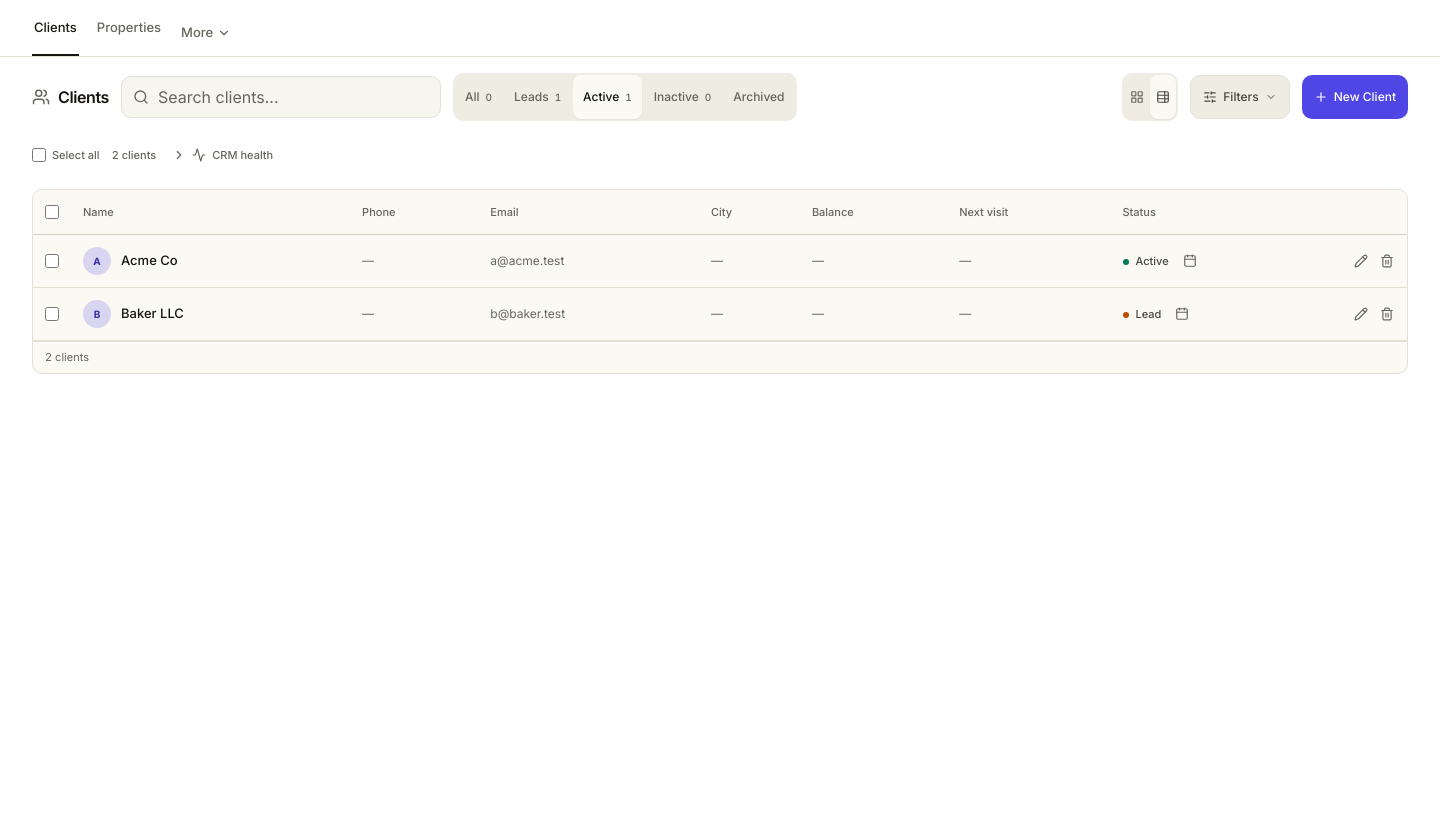
Test: Clients — the CRM-health buckets are bare, not boxed › clicking a bucket narrows the list
Click the button "CRM health": click(223, 155) [172,133,273,177]
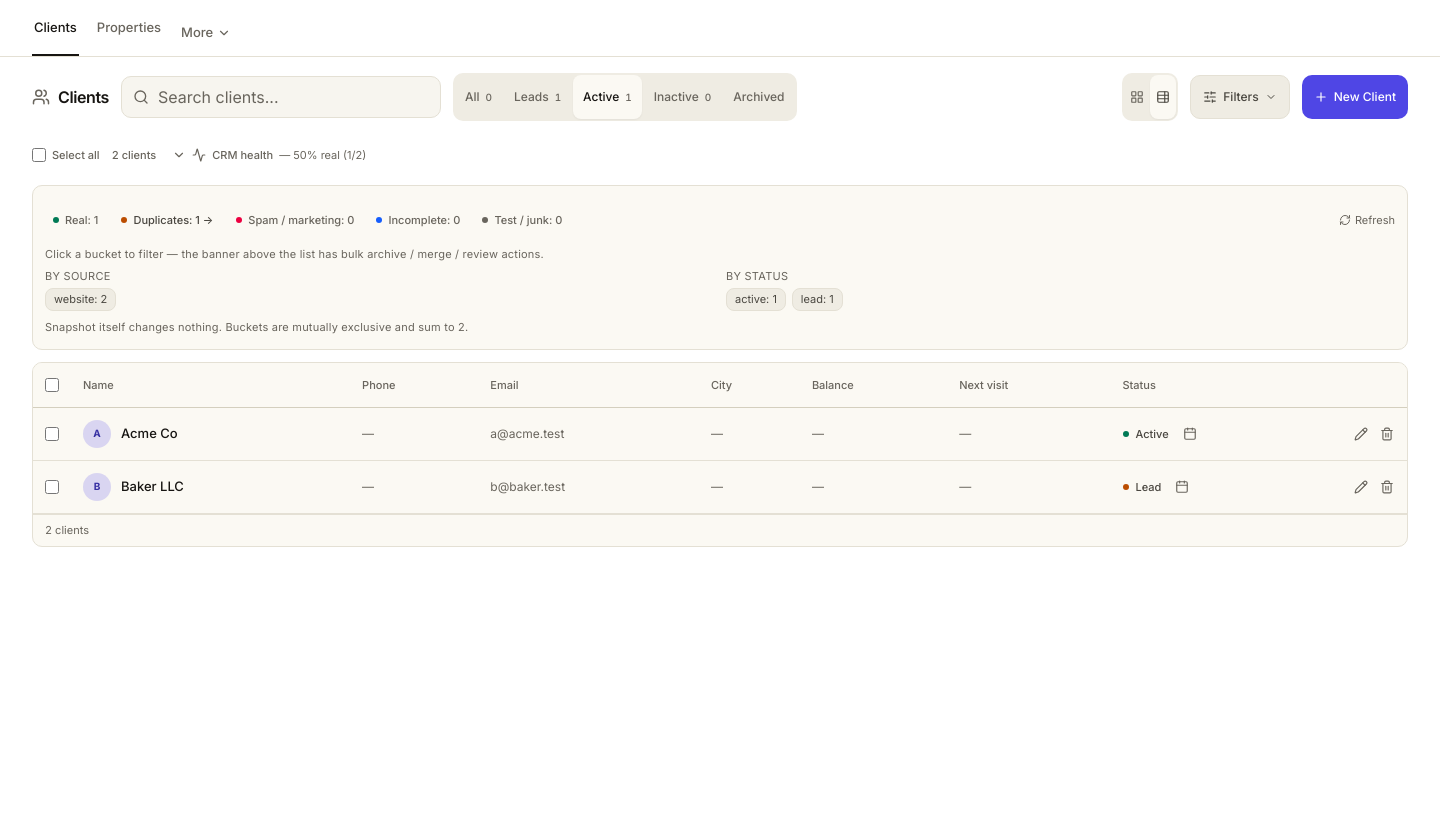
Click the button "Duplicates: 1 →": click(167, 220) [112,198,222,242]
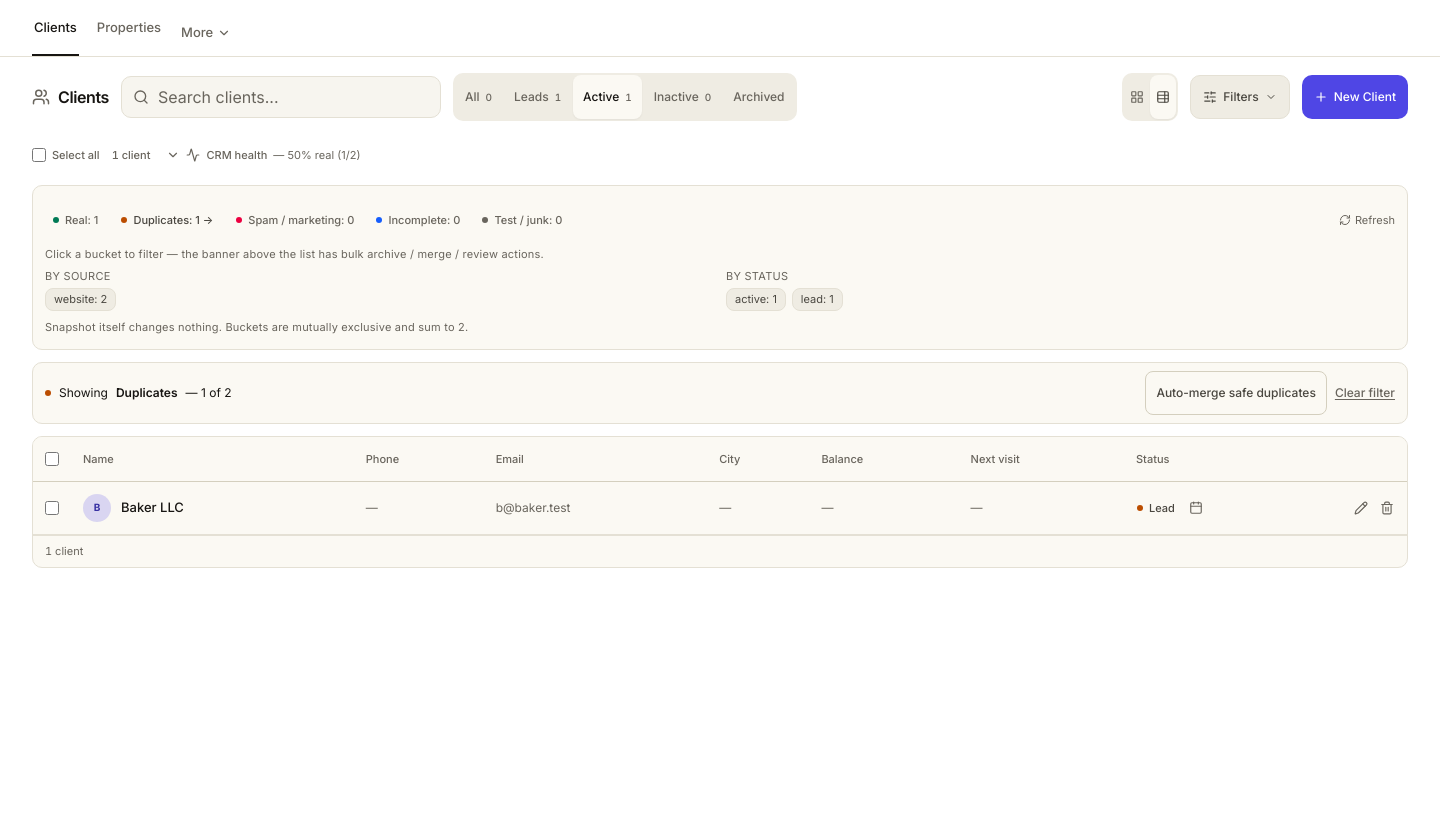
Expected: the text "Showing Duplicates — 1 of 2" is shown, [45,384,232,402]
